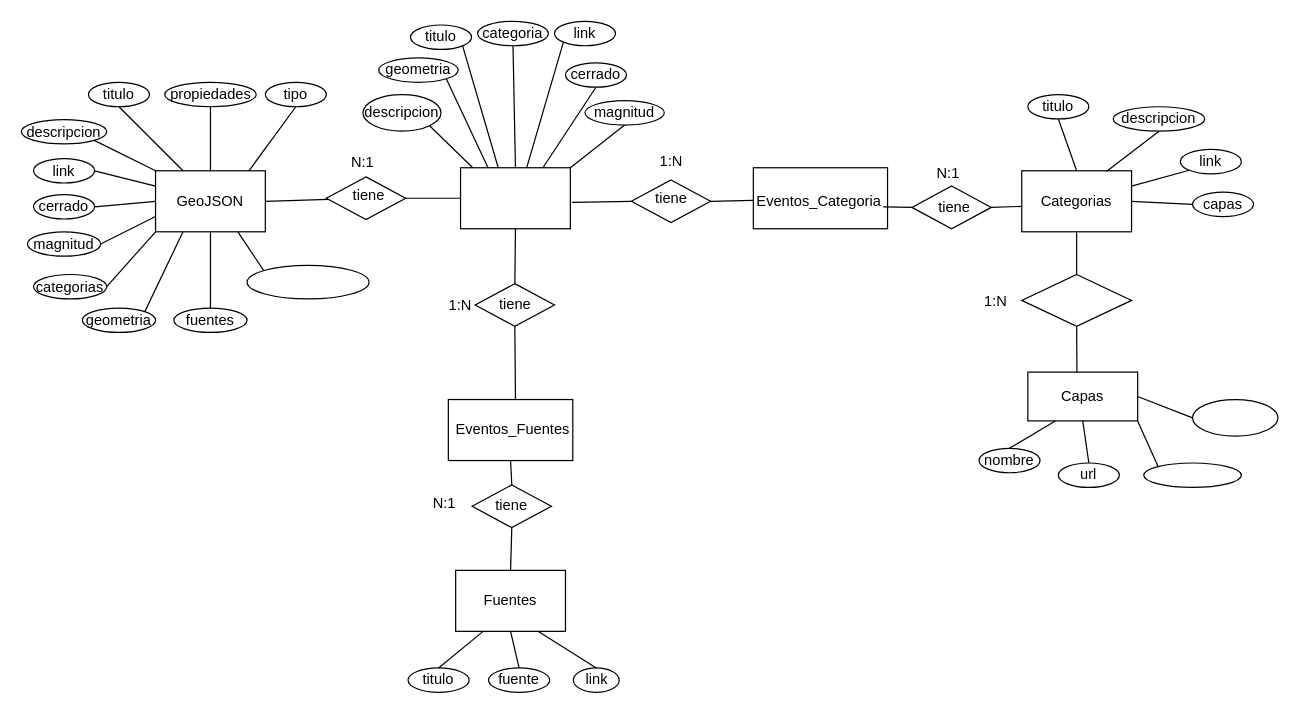
The diagram is 1299 pixels wide and 714 high, and some of its shapes have lost their labels. Each missing label, with the centre of its shape:
Eventos: point 514,198
geometria_fechas: point 307,281
parametros: point 1234,417
se vincula a: point 1076,299
servicio_tipo: point 1192,474
